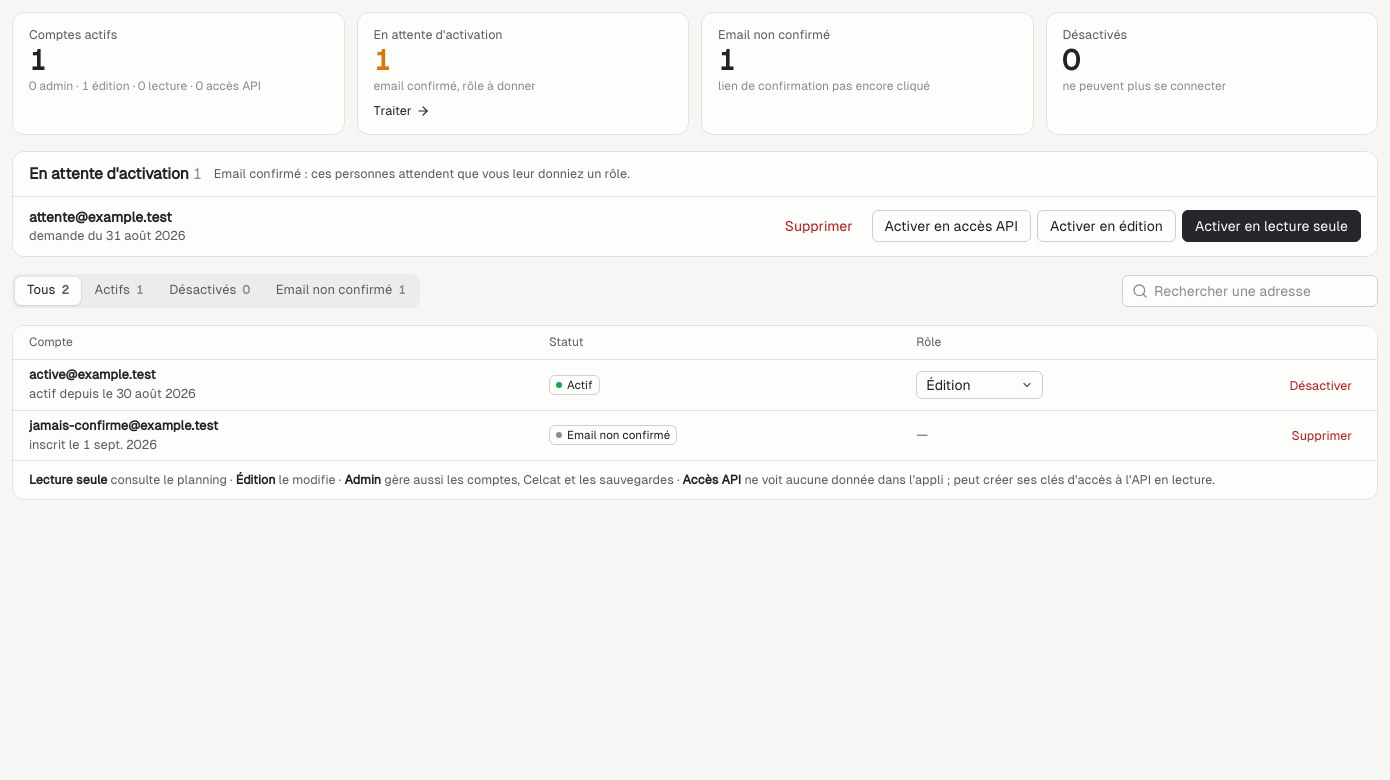
Test: AdminUsersView › propose le rôle « Accès API » à l'activation
This screenshot has width=1390, height=780.
Check: the text "attente@example.test" is shown, box [29,207,185,227]
Click the button "Activer en accès API" at coordinates (951, 226), box [872,210,1031,242]
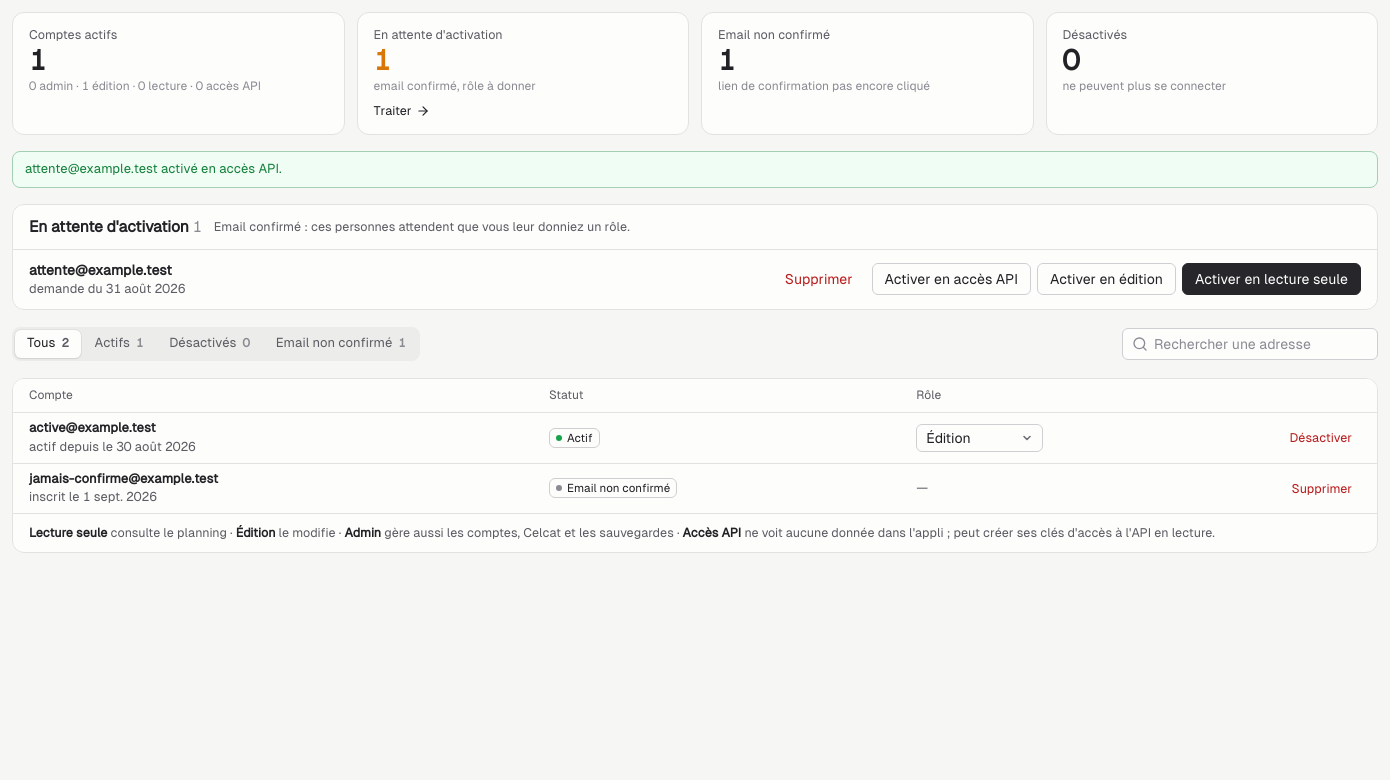
Check: the text "attente@example.test activé en accès API." is shown, box [25,160,282,179]
